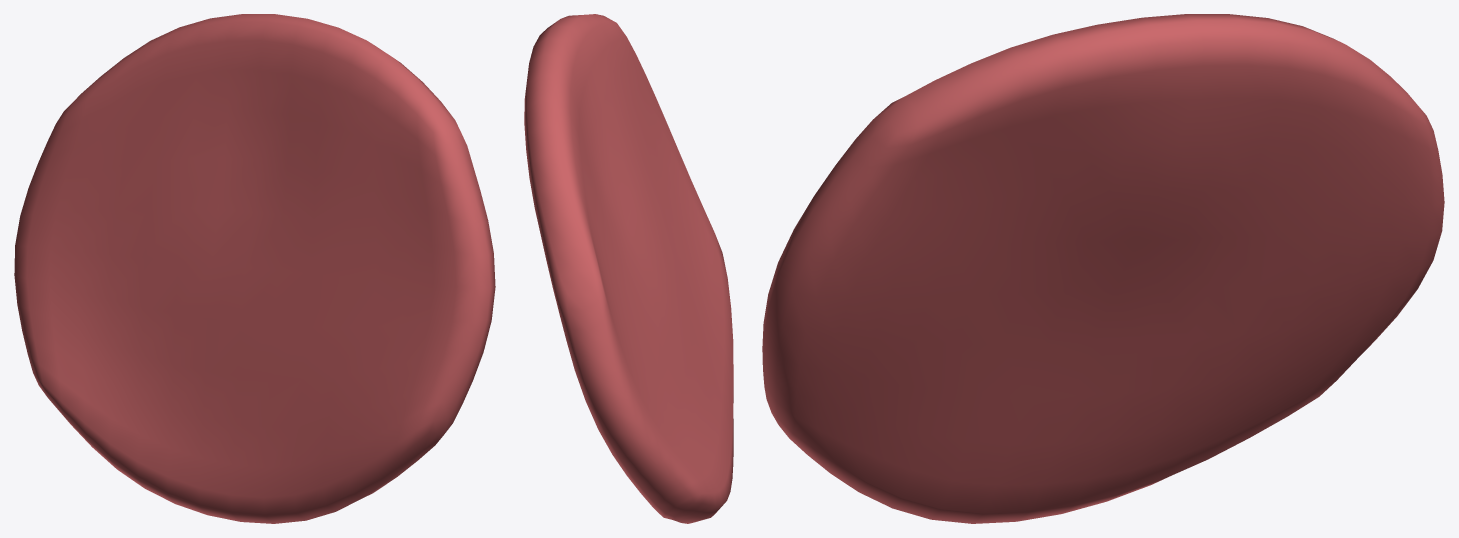
3 views of the same model, side by side, from view 1: azimuth 30°, elevation 25°; view 2: azimuth 150°, elevation 25°; view 3: azimuth 270°, elevation 25° (orthographic). The views are drawn at different scales.
Parts seen in each view (by area): view 1: 右侧半膜肌囊; view 2: 右侧半膜肌囊; view 3: 右侧半膜肌囊.
Part boxes in pixels (bbox=[...]): 右侧半膜肌囊: bbox=[14, 14, 495, 523]; 右侧半膜肌囊: bbox=[524, 14, 733, 523]; 右侧半膜肌囊: bbox=[762, 14, 1444, 523].
Bounding box in the file's own units: 0.0184 × 0.0281 × 0.0304.
